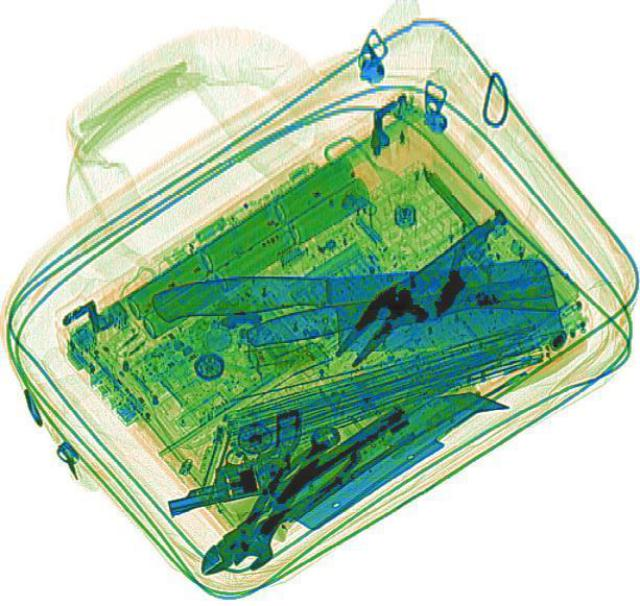Gun: (146, 405, 322, 516)
Knife: (150, 258, 560, 362), (242, 260, 558, 350)
Pliers: (178, 421, 372, 588)
Wrench: (221, 416, 351, 577)
